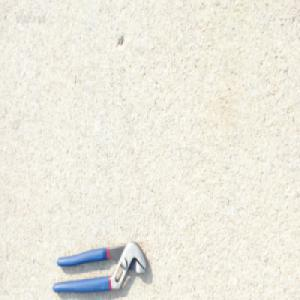Pliers: (51, 238, 149, 294)
